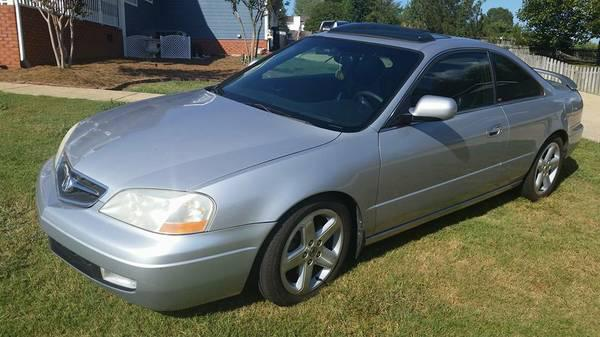acura: (22, 17, 595, 315)
